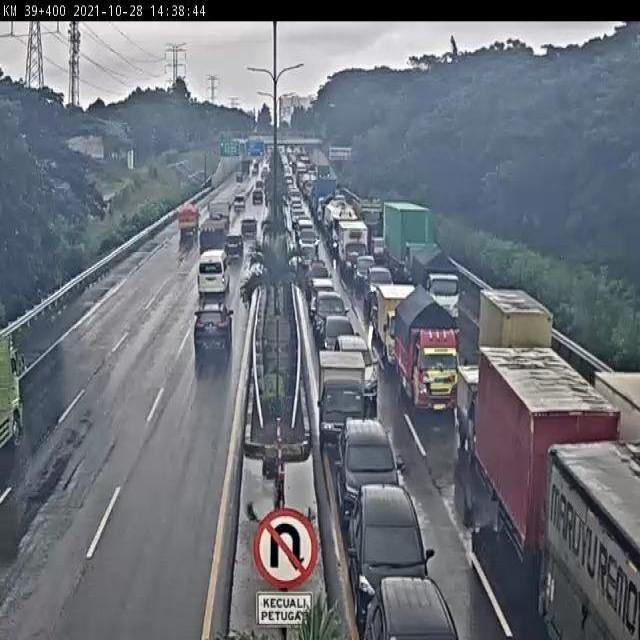big truck: (479, 345, 626, 595), (383, 203, 433, 281), (193, 201, 231, 252)
car: (349, 486, 436, 618), (335, 418, 399, 530), (363, 577, 460, 640), (335, 336, 380, 403), (193, 300, 233, 364), (319, 315, 360, 369), (312, 290, 350, 342), (367, 265, 395, 308), (309, 276, 334, 316), (355, 255, 376, 288), (224, 233, 245, 260), (240, 215, 259, 237), (233, 194, 248, 214)
small bus: (197, 248, 230, 300)
small truck: (393, 287, 462, 416), (477, 287, 556, 396), (458, 365, 521, 468), (317, 348, 369, 449), (413, 246, 462, 326), (377, 283, 420, 369), (339, 220, 369, 276), (176, 200, 200, 240)
